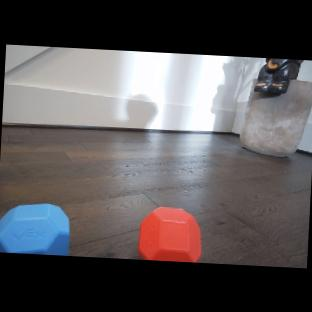V5_BLUE: (0, 201, 70, 256), (137, 206, 203, 263)
